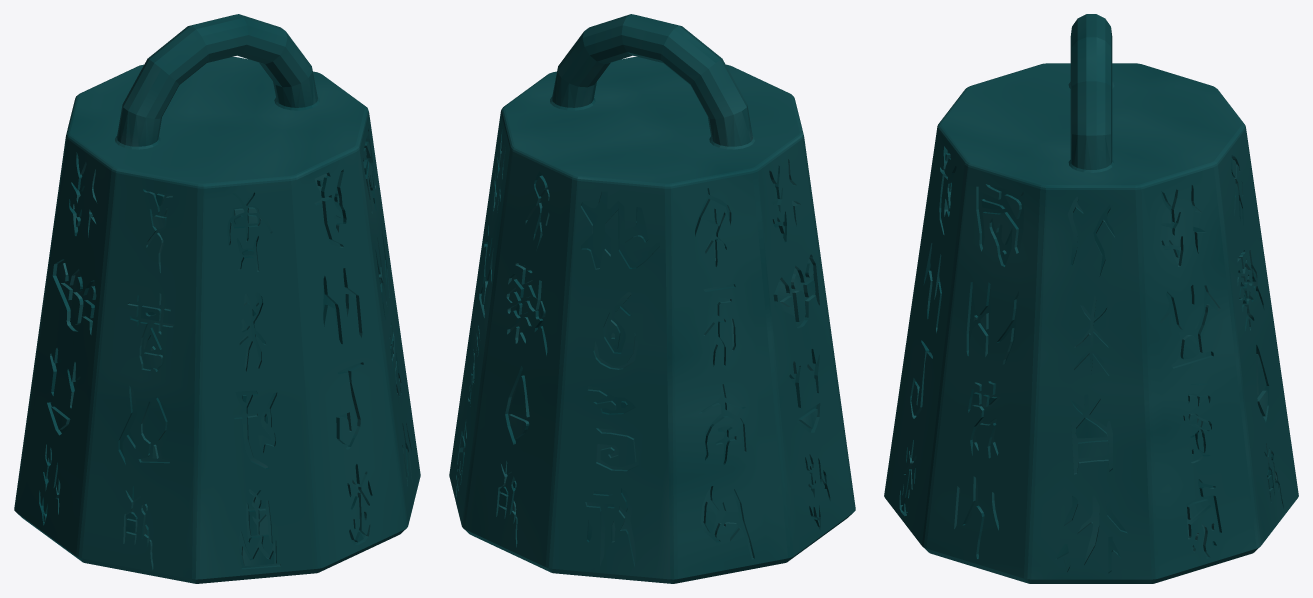
File: 度量衡.gltf
3 views of the same model, side by side, from view 1: azimuth 30°, elevation 25°; view 2: azimuth 150°, elevation 25°; view 3: azimuth 270°, elevation 25° (orthographic).
Visible parts, largest first — view 1: 秦衡; view 2: 秦衡; view 3: 秦衡.
Boxes of the visible parts, box(x1,y1,x2,y2) form: 秦衡: box(14, 14, 420, 583); 秦衡: box(449, 14, 855, 583); 秦衡: box(884, 14, 1298, 583).
Size of the model in its own units: 0.00946 by 0.0126 by 0.00992.
Materials: 1 (1 with a texture image).
